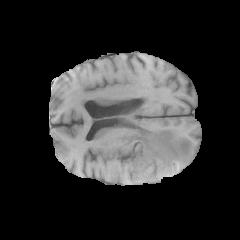glioma: (118, 128, 192, 184)
